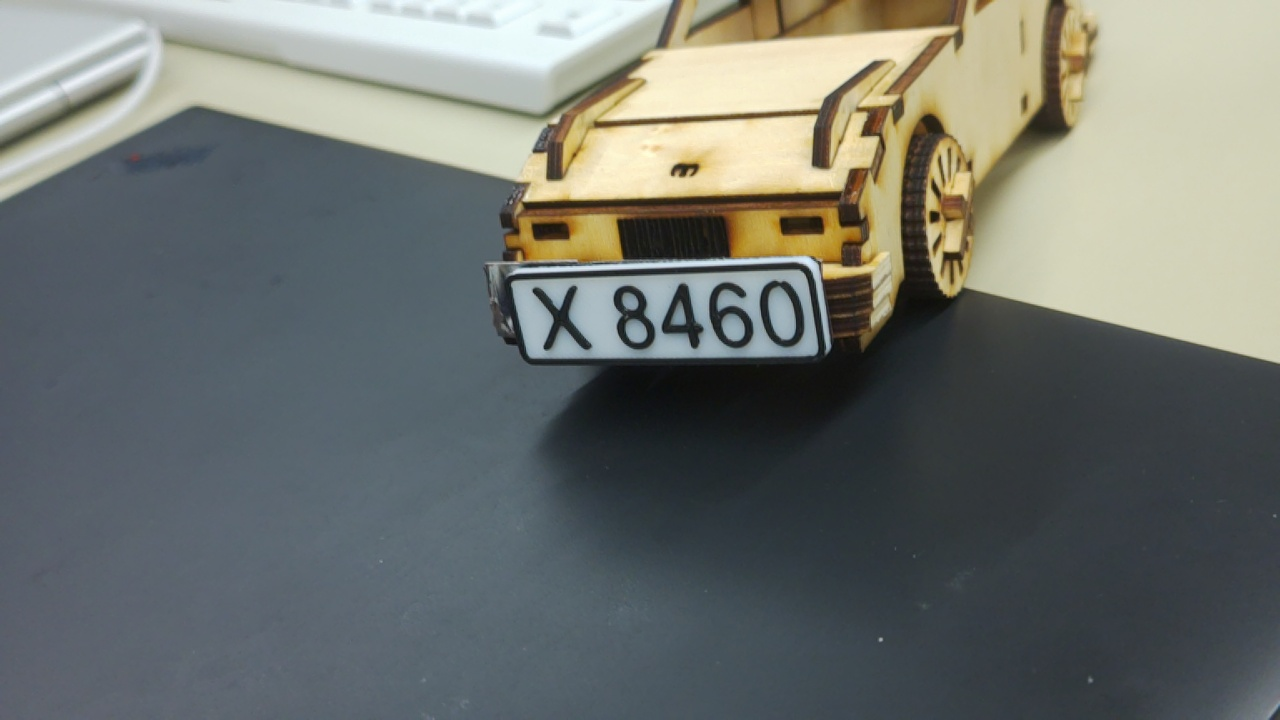license_plate: (501, 250, 841, 381)
